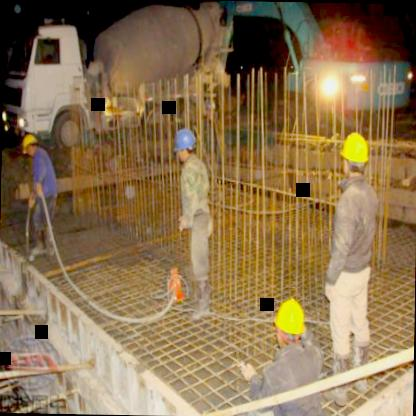helmet: (272, 293, 306, 352), (338, 128, 370, 182), (176, 126, 199, 162), (20, 132, 38, 159)
